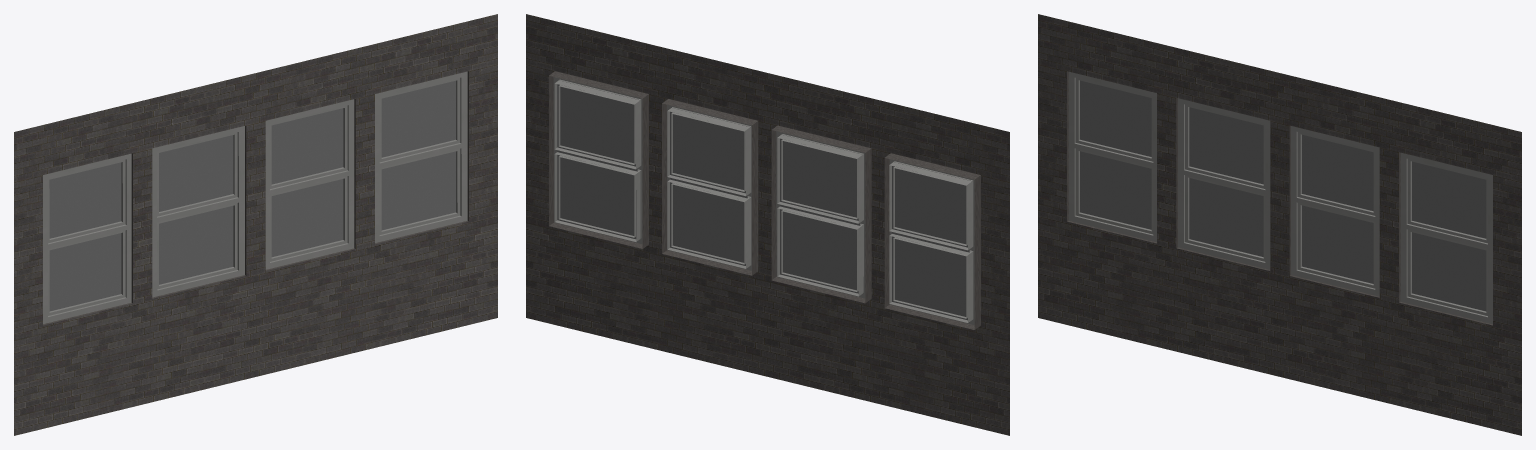
The model's file is Sm_Window04b.fbx.
3 views of the same model, side by side, from view 1: azimuth 30°, elevation 25°; view 2: azimuth 150°, elevation 25°; view 3: azimuth 330°, elevation 25° (orthographic).
Visible parts, largest first — view 1: Sm_Window04b; view 2: Sm_Window04b; view 3: Sm_Window04b.
Part boxes in pixels (x1=…): Sm_Window04b: x1=14, y1=14, x2=497, y2=435; Sm_Window04b: x1=526, y1=14, x2=1009, y2=435; Sm_Window04b: x1=1038, y1=14, x2=1521, y2=435.
Bounding box in the file's own units: 500 × 12.11 × 300.
3 materials, 3 textured.
